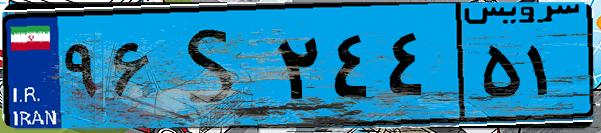1: (525, 38, 570, 115)
2: (270, 28, 330, 110)
4: (385, 28, 445, 110), (330, 28, 385, 110)
5: (475, 38, 525, 113)
6: (110, 28, 158, 98)
9: (57, 26, 110, 100)
S: (158, 12, 270, 120)
